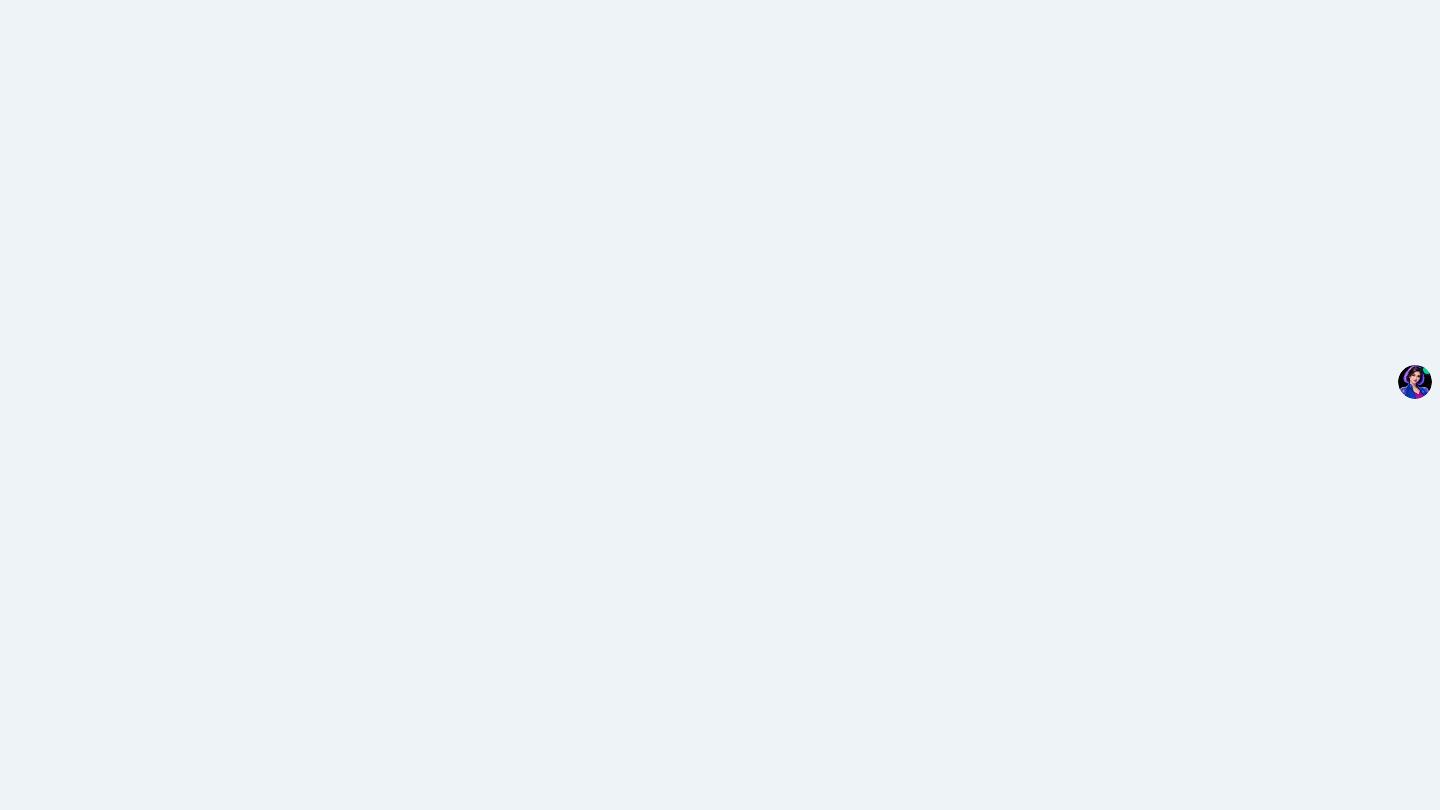
Test: IallkaFloatingIcon — ícone e painel › 8c. em uma tarefa dentro de Projetos, Tarefas tem prioridade sobre o trecho 'projetos' da URL
Click the button named "Falar com a Aura". click: (1415, 382)
box: [1398,365,1432,399]
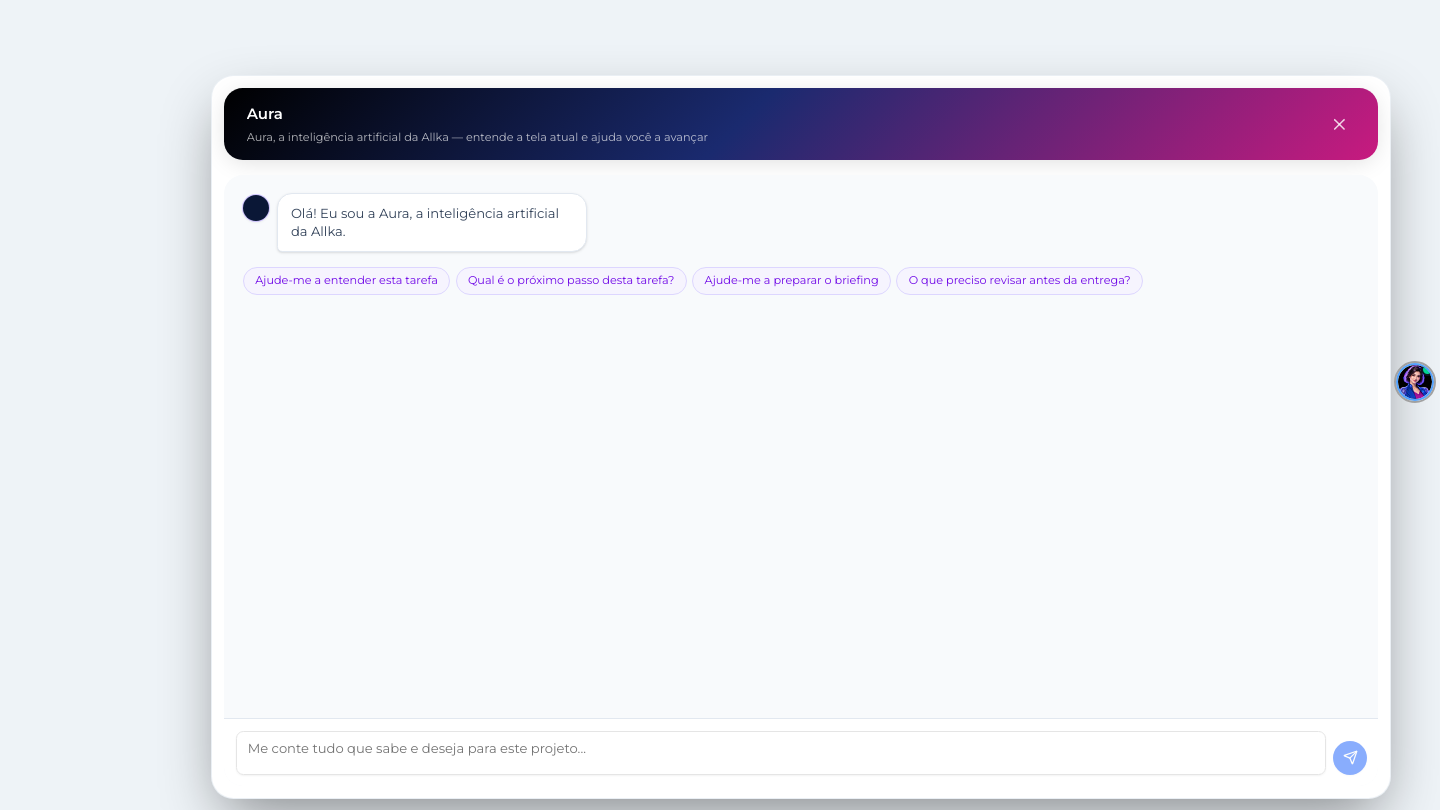
expect the button "Qual é o próximo passo desta tarefa?" is shown: met, box [456,266,687,295]
